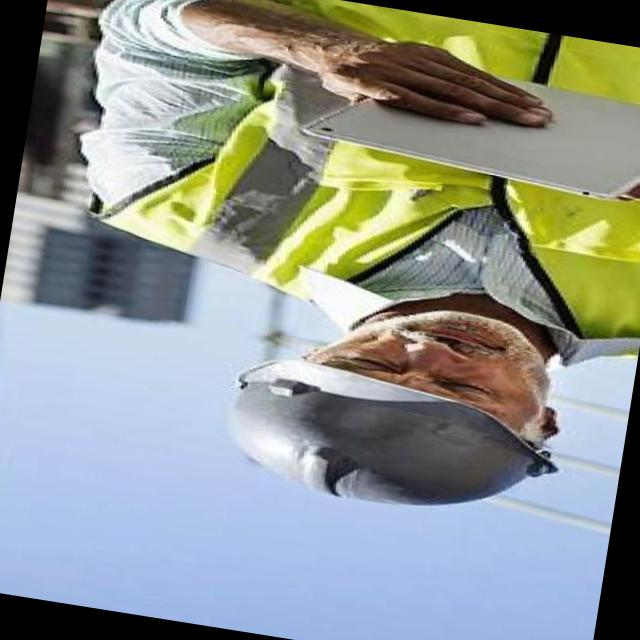not-gloved: (298, 10, 570, 158)
